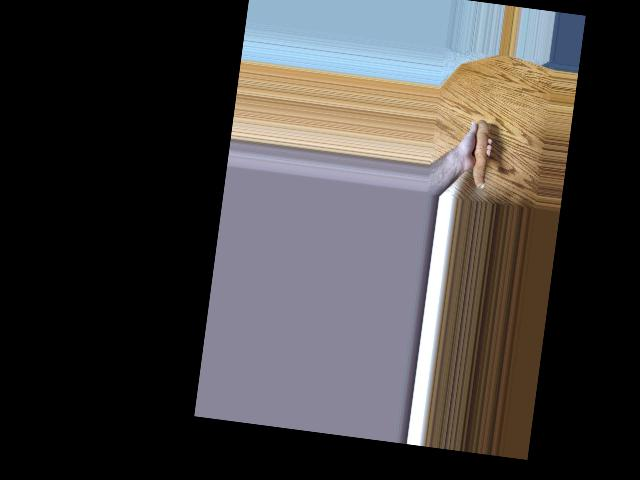sweet_potato: (463, 121, 491, 190)
